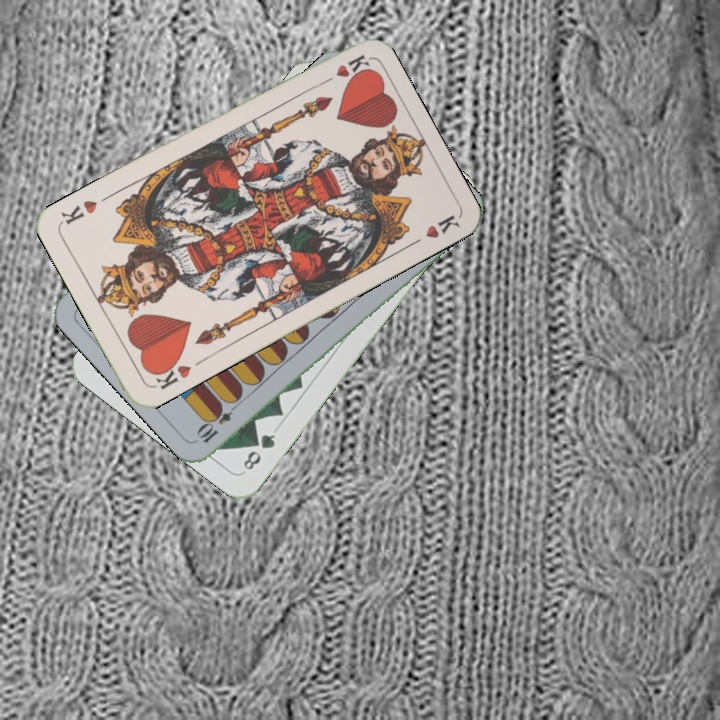E10: (193, 397, 243, 446)
G8: (239, 429, 278, 473)
HK: (315, 50, 371, 89), (148, 355, 194, 393)
